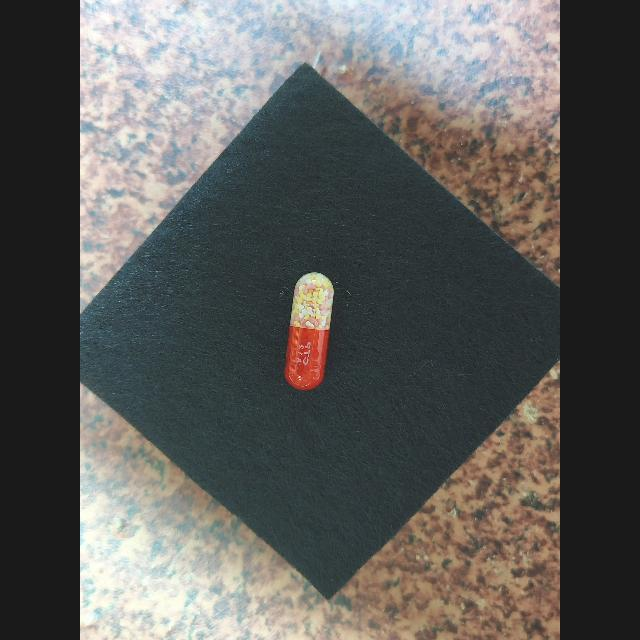Intact Capsule: (284, 273, 334, 390)
